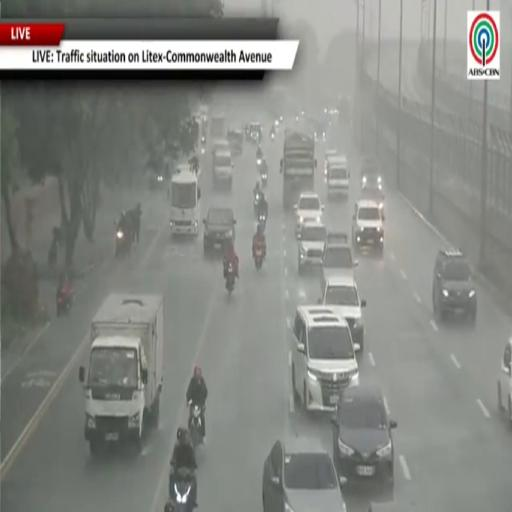car: (292, 306, 359, 411), (333, 387, 396, 487), (262, 437, 346, 511), (319, 276, 366, 353), (433, 250, 476, 322), (321, 233, 358, 290), (352, 200, 384, 254), (204, 206, 236, 254), (298, 221, 326, 275), (294, 192, 323, 238), (498, 338, 511, 426), (326, 155, 350, 197), (213, 150, 233, 189), (360, 187, 384, 213), (361, 157, 381, 186), (226, 129, 244, 156), (368, 503, 424, 511), (324, 149, 338, 175), (362, 174, 383, 190), (327, 230, 348, 244), (212, 139, 230, 155), (249, 122, 262, 142)
motorcycle: (164, 469, 193, 511), (189, 402, 203, 450), (116, 228, 131, 257), (56, 291, 73, 316), (48, 239, 58, 268), (226, 263, 235, 295), (255, 246, 263, 270), (254, 194, 260, 215), (258, 213, 266, 228), (261, 172, 267, 187), (257, 158, 262, 168), (271, 133, 275, 141)
truck: (79, 294, 163, 456), (280, 131, 317, 210), (170, 165, 200, 235), (210, 115, 227, 139)
